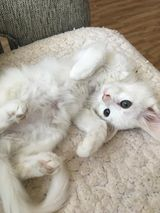cat: (2, 45, 155, 212)
